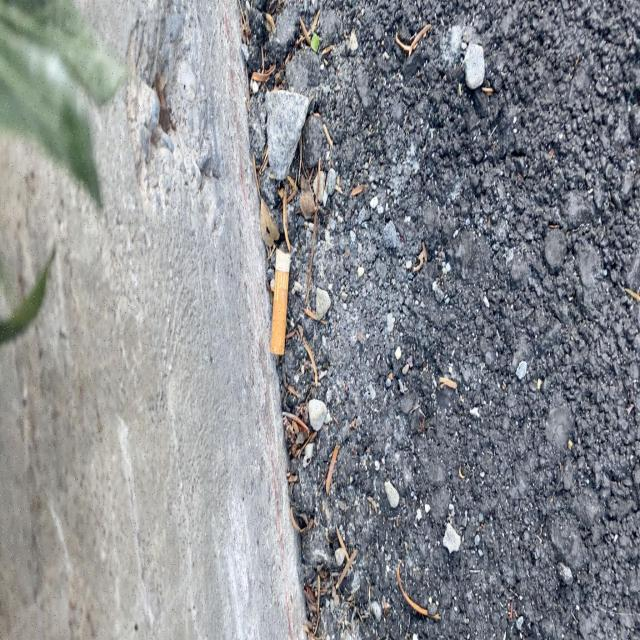other waste: (270, 247, 290, 356)
